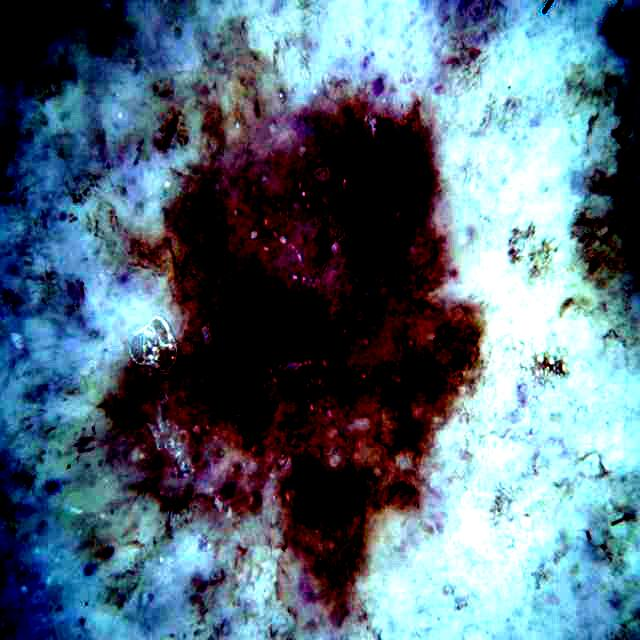AKIEC: (176, 98, 481, 582)
